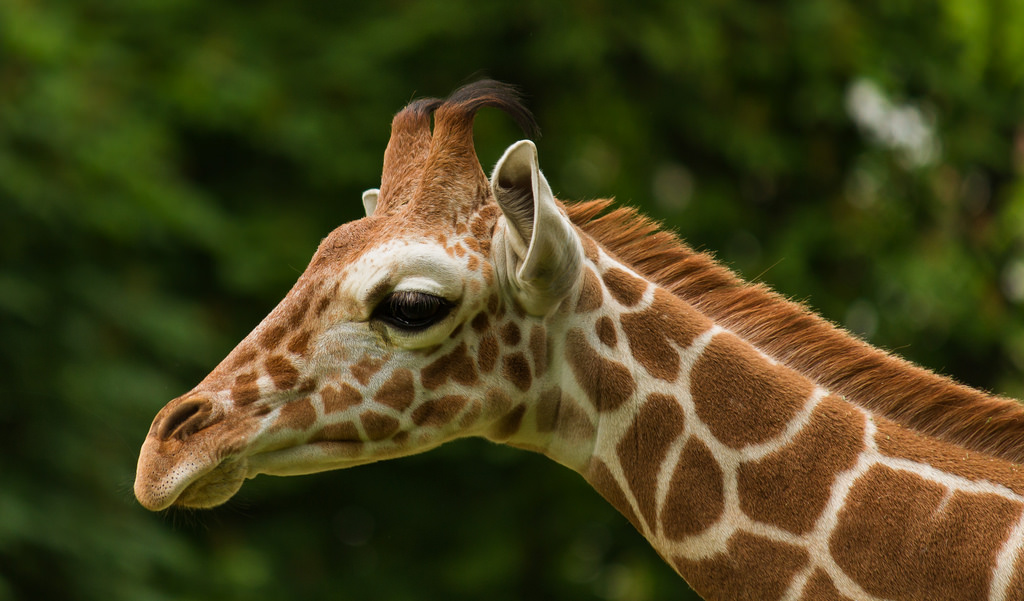giraffe: (89, 82, 1014, 572)
